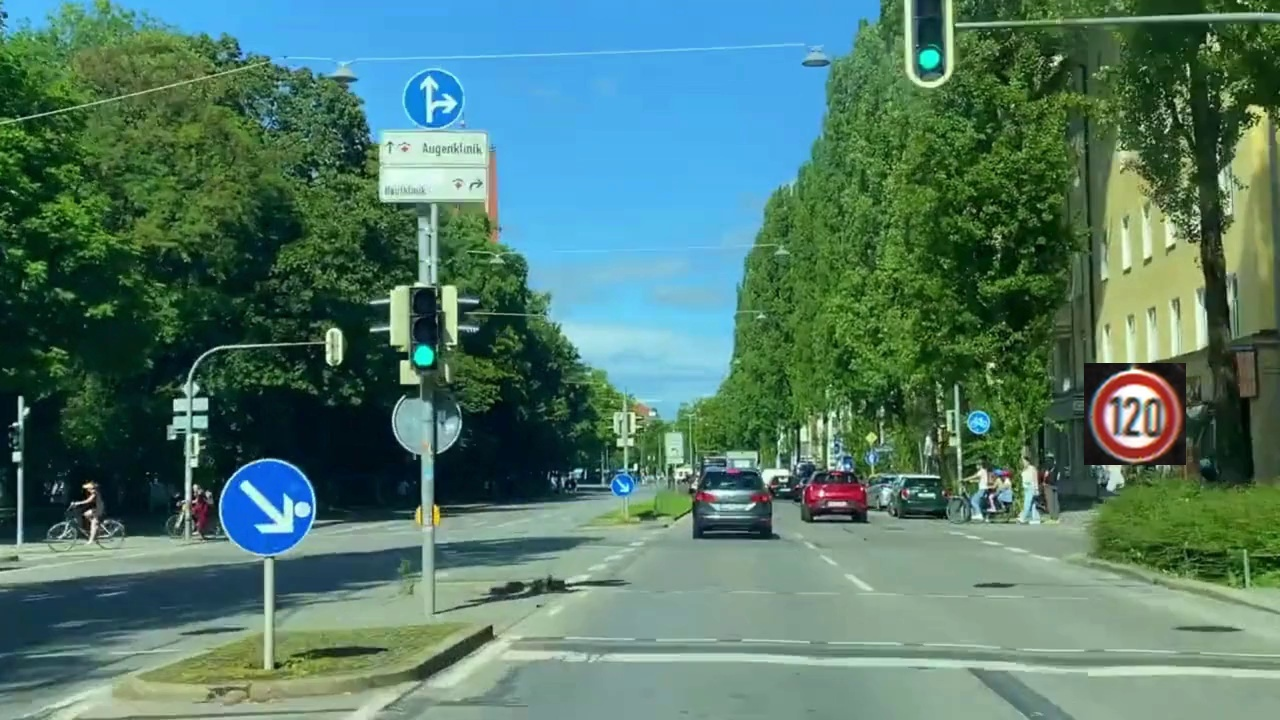Speed 120: (1084, 363, 1186, 465)
